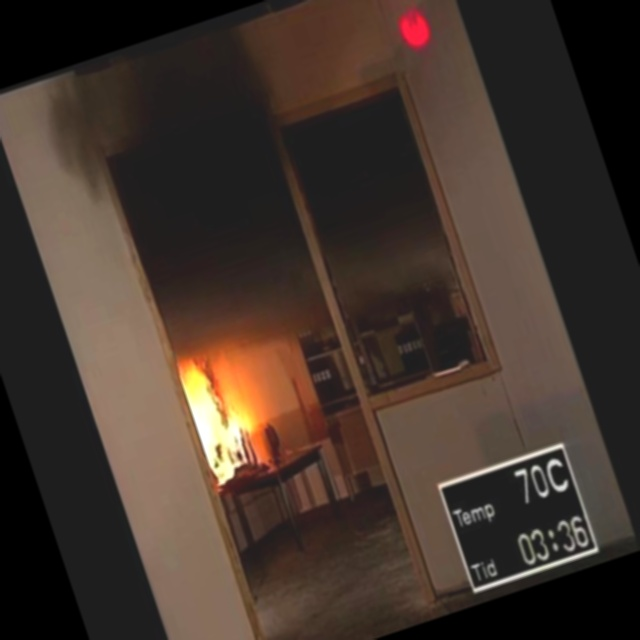fire: (171, 332, 287, 488)
